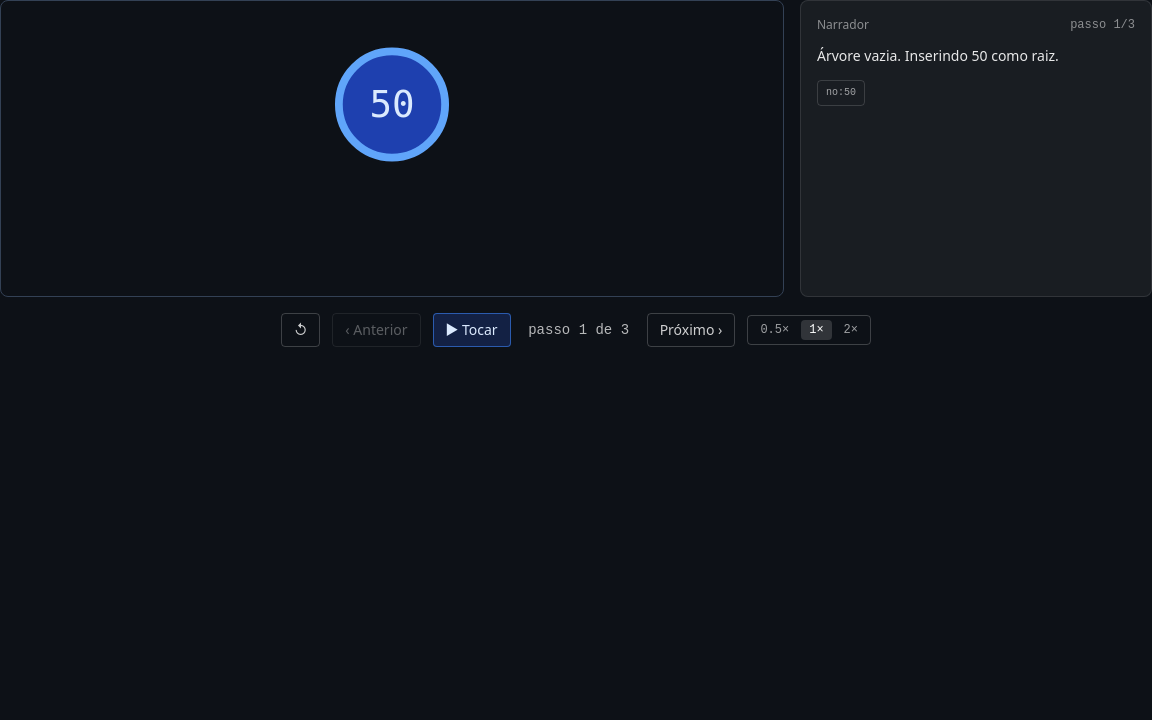
IndiceBSTVisual › no último passo o destaque muda para o nó recém-inserido
The width and height of the screenshot is (1152, 720).
Click the button "Próximo ›". click: {"x": 691, "y": 330}
box: [647,312,735,346]
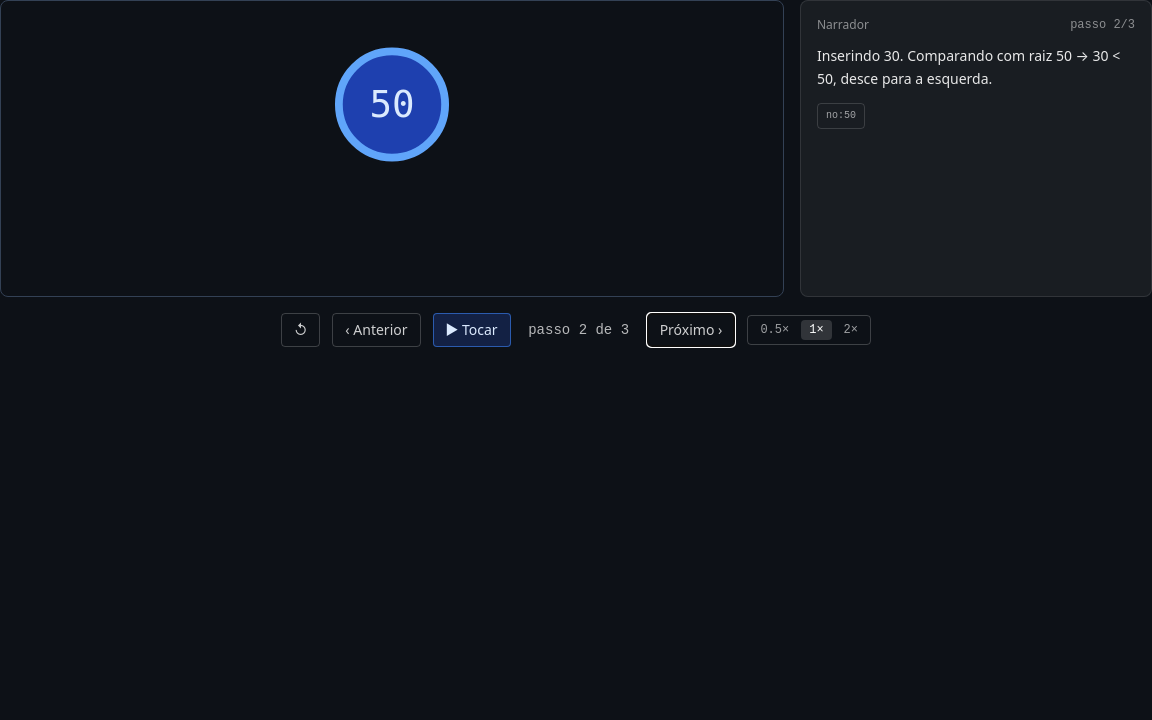
Click the button "Próximo ›". click: {"x": 691, "y": 330}
box: [647,312,735,346]
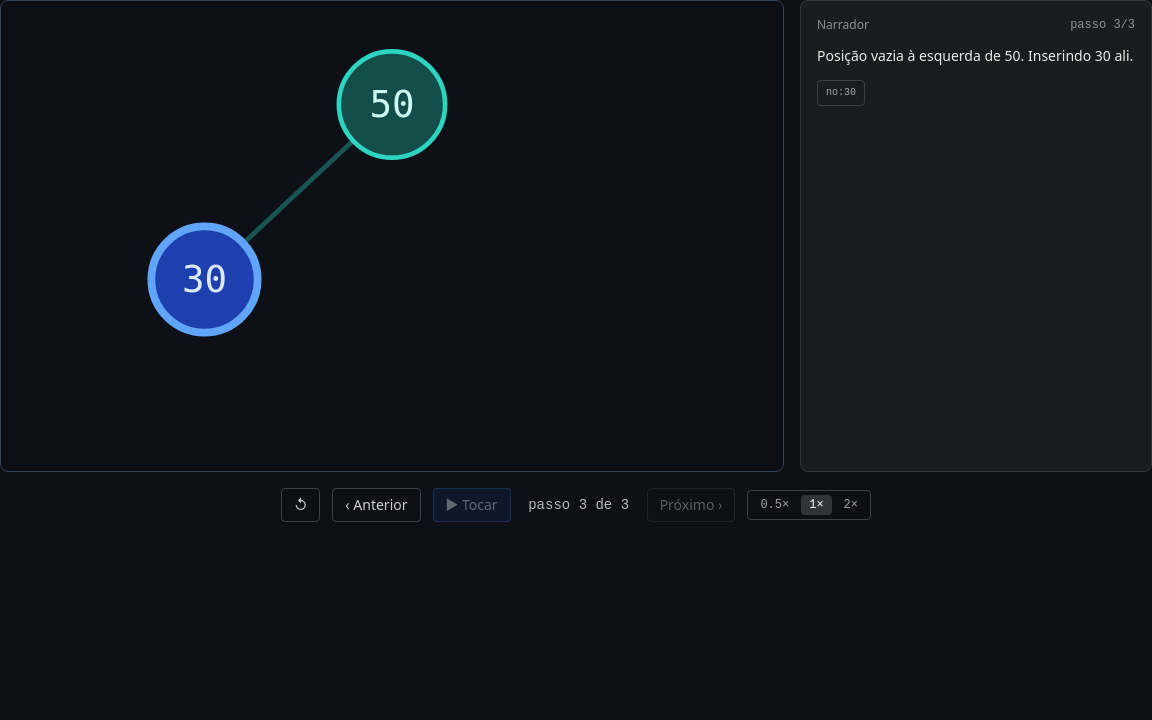
Result: the text "passo 3 de 3" is shown at [523,494,635,514]
Result: the button "Próximo ›" is disabled at [647,488,735,522]
